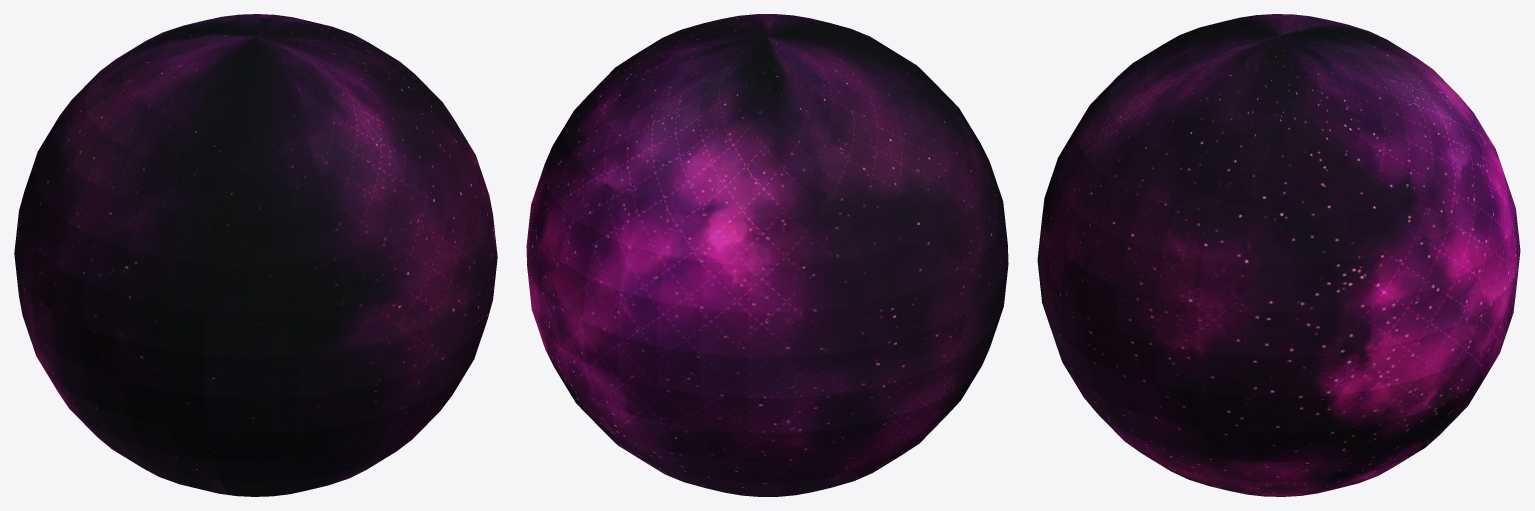
Rendered from corkboard_free_low_poly.glb.
3 views of the same model, side by side, from view 1: azimuth 30°, elevation 25°; view 2: azimuth 150°, elevation 25°; view 3: azimuth 270°, elevation 25° (orthographic).
Visible parts, largest first — view 1: Object_8; view 2: Object_8; view 3: Object_8.
Part boxes in pixels (x1=…): Object_8: x1=14, y1=14, x2=497, y2=496; Object_8: x1=526, y1=14, x2=1008, y2=496; Object_8: x1=1037, y1=14, x2=1520, y2=496.
Bounding box in the file's own units: 3670 × 3674 × 3670.
4 materials, 4 textured.
